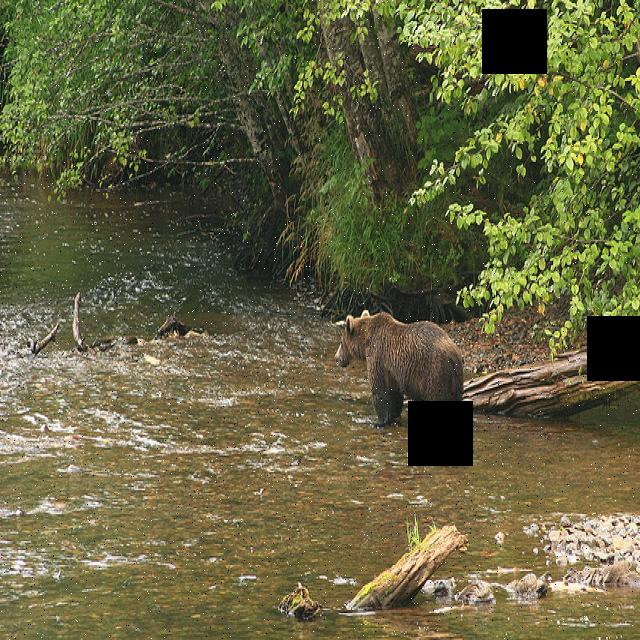Bear: (335, 309, 467, 429)
